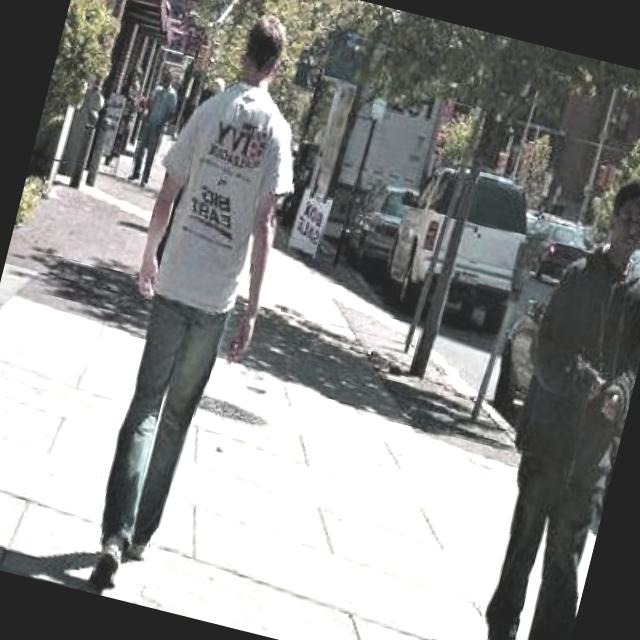Person: (58, 0, 341, 609), (449, 163, 640, 640)
